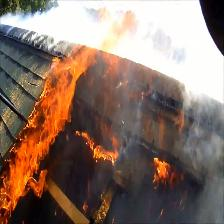fire: (0, 130, 61, 207), (28, 53, 82, 129), (81, 135, 122, 161), (151, 154, 171, 186)
